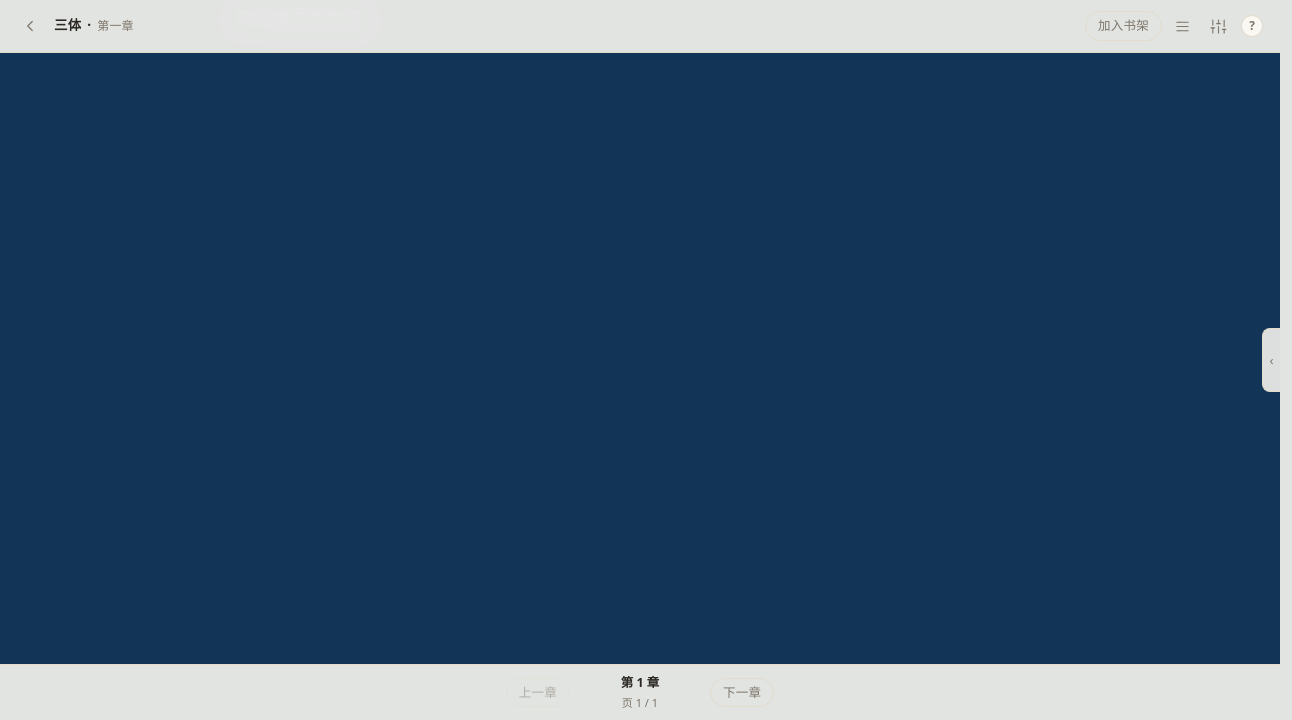
Scenario: ReaderPage (source) toc panel › opens the toc panel and lists chapters with current highlighted
The image size is (1292, 720).
Click the button named "目录": point(1182, 26) [1166,10,1198,42]
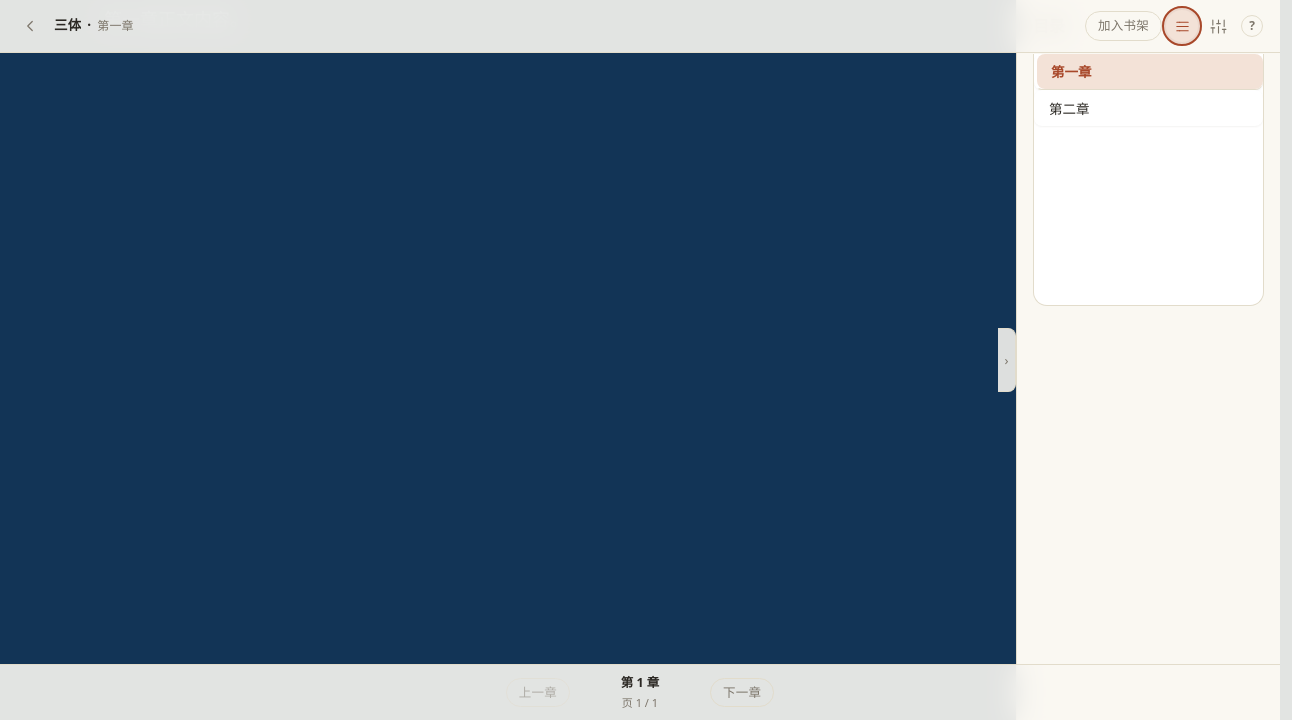
Result: the element with class "reader-toc-panel" is shown at [1016,0,1280,719]
Result: the number of buttons with class "toc-item" is 2 at [1037,54,1263,89]; [1037,90,1263,126]
Result: the button with class "toc-item" reads "第一章" at [1037,54,1263,89]
Click the button named "目录": point(1182, 26) [1166,10,1198,42]
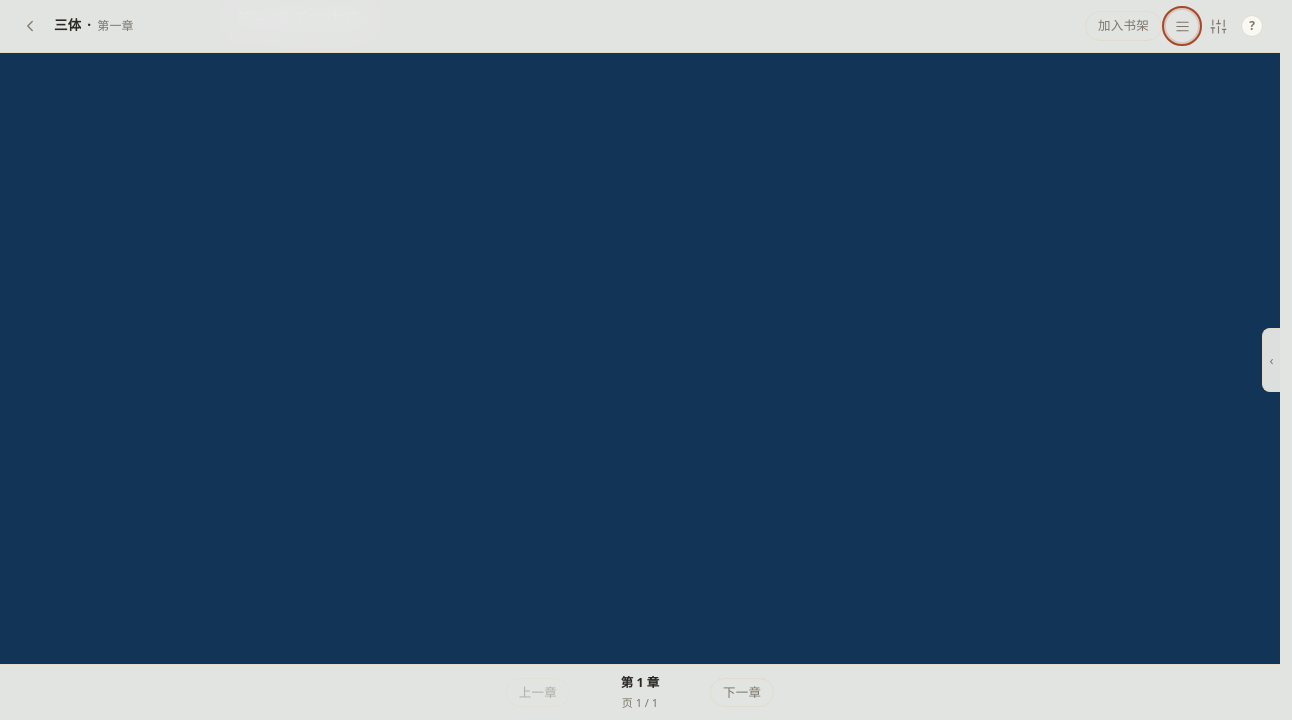
Result: the element with class "reader-toc-panel" is gone
